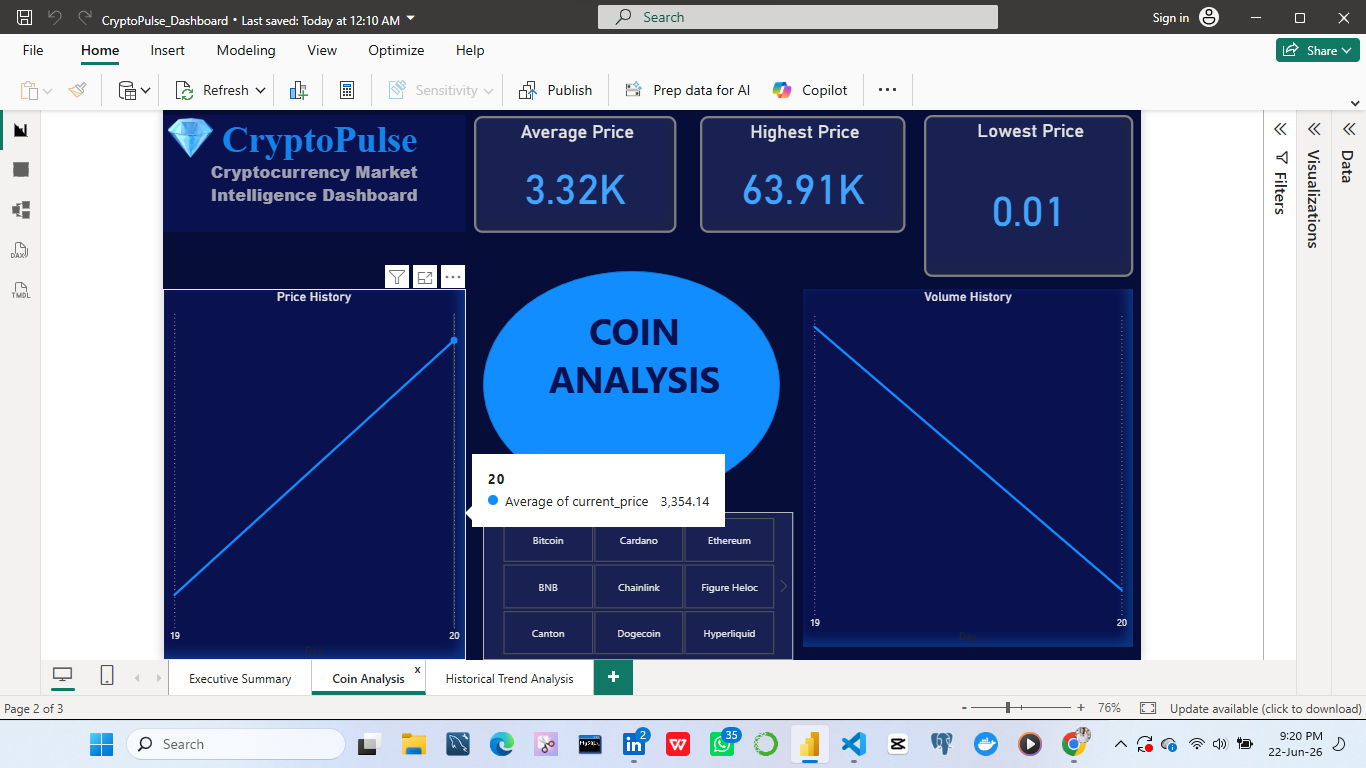

What the dashboard file says about the page in this screenshot:
{"tool":"powerbi","page":{"name":"Coin Analysis","canvas":[1280,720],"ordinal":1},"visuals":[{"type":"card","title":"Average Price","fields":{"Values":["public crypto_prices.Average Price"]},"box":[407.5,7.2,265,152.6],"z":0},{"type":"lineChart","title":"Price History","fields":{"Y":["Avg(public crypto_prices.current_price)"],"Category":["public crypto_prices.loaded_at.Variation.Date Hierarchy.Day"]},"box":[0,234.7,396,485.3],"z":1000},{"type":"card","title":"Highest Price","fields":{"Values":["public crypto_prices.Highest Price"]},"box":[702.7,7.2,269.3,152.6],"z":2000},{"type":"card","title":"Lowest Price","fields":{"Values":["public crypto_prices.lowest Price"]},"box":[996.1,6.7,273.8,211.7],"z":3000},{"type":"lineChart","title":"Volume History","fields":{"Category":["public crypto_prices.loaded_at.Variation.Date Hierarchy.Day"],"Y":["Avg(public crypto_prices.total_volume)"]},"box":[838.1,234.7,432,468],"z":4000},{"type":"slicer","fields":{"Values":["public crypto_prices.name"]},"box":[419,525.6,406.1,194.4],"z":5000},{"type":"shape","box":[419,210.2,388.8,298.1],"z":6000},{"type":"textbox","box":[489.6,250.6,254.9,200.2],"z":7000},{"type":"textbox","box":[0,7,396,153],"z":8000},{"type":"image","box":[0,0,72,72],"z":9000}]}

Visuals, with their boxes on the page's 1280x720 design canvas (x1, y1, x2, y2). These are canvas units, not pixel positions in the 1366x768 screenshot, which may show the page scaled, cropped or inside an application window:
"Average Price" card: 408,7,672,160
"Price History" lineChart: 0,235,396,720
"Highest Price" card: 703,7,972,160
"Lowest Price" card: 996,7,1270,218
"Volume History" lineChart: 838,235,1270,703
slicer - public crypto_prices.name: 419,526,825,720
shape: 419,210,808,508
textbox: 490,251,744,451
textbox: 0,7,396,160
image: 0,0,72,72
